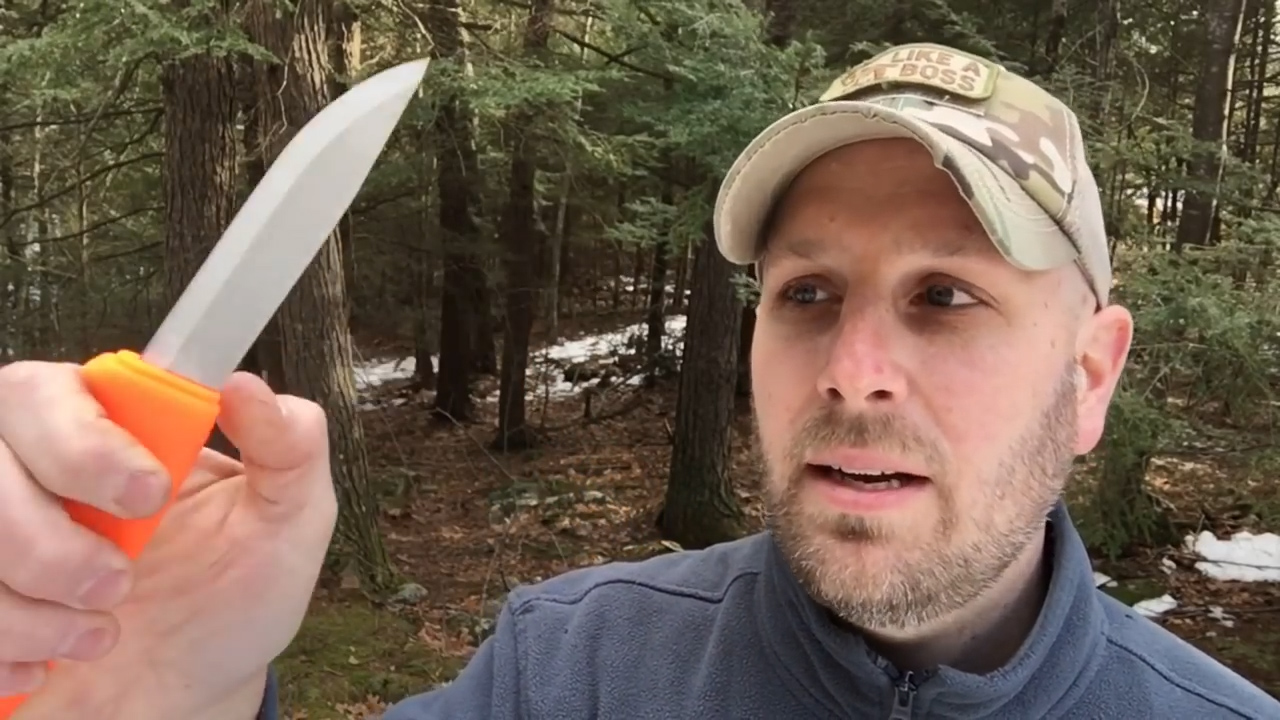knife: (1, 49, 441, 531)
